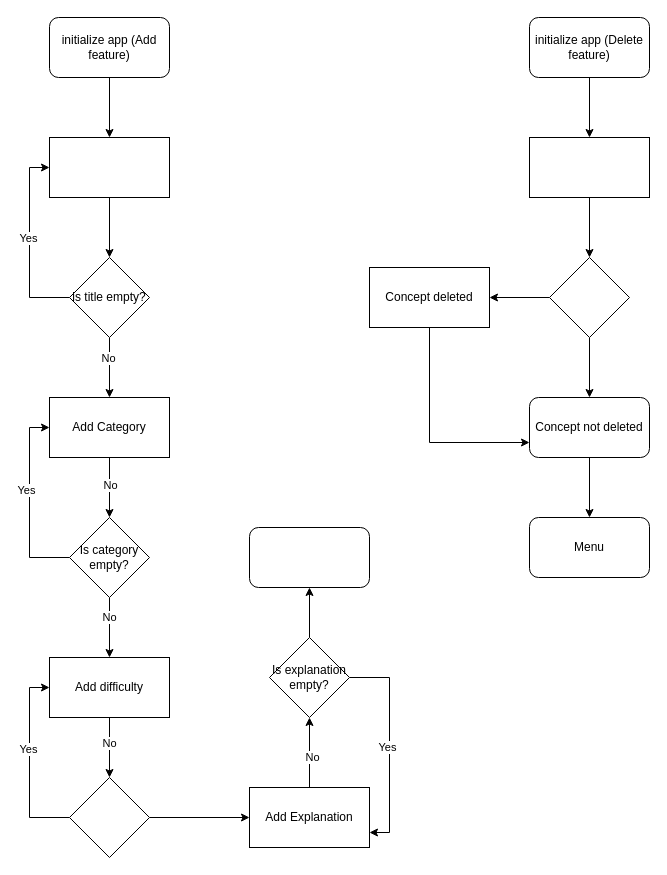
Image size: 667x875. Some labels were removed from this diagram. Each missing label, with the centre of its shape:
"Add title" goes at point 109,167.
"Concept added" goes at point 309,557.
"Delete confirmation" goes at point 589,297.
"Delete feature" goes at point 589,167.
"Is difficulty empty?" goes at point 109,817.
